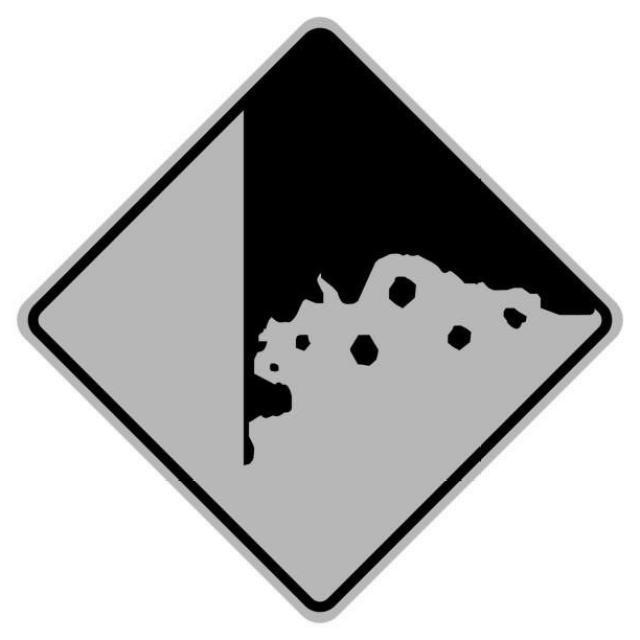falling rocks: (22, 16, 609, 624)
